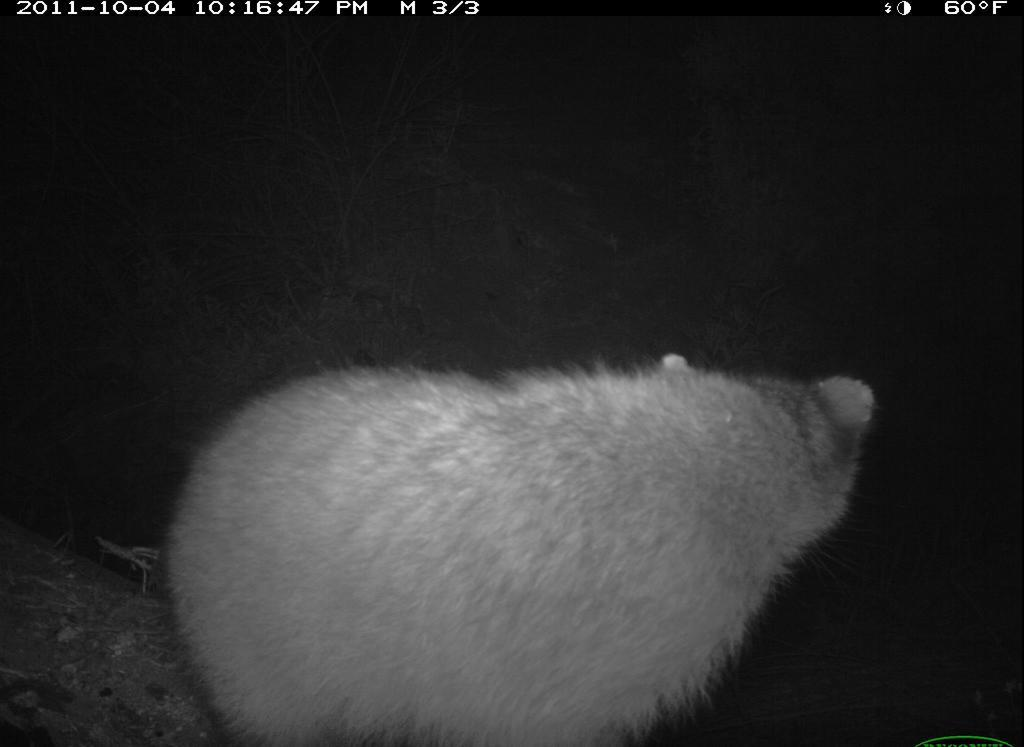raccoon: (145, 308, 899, 747)
